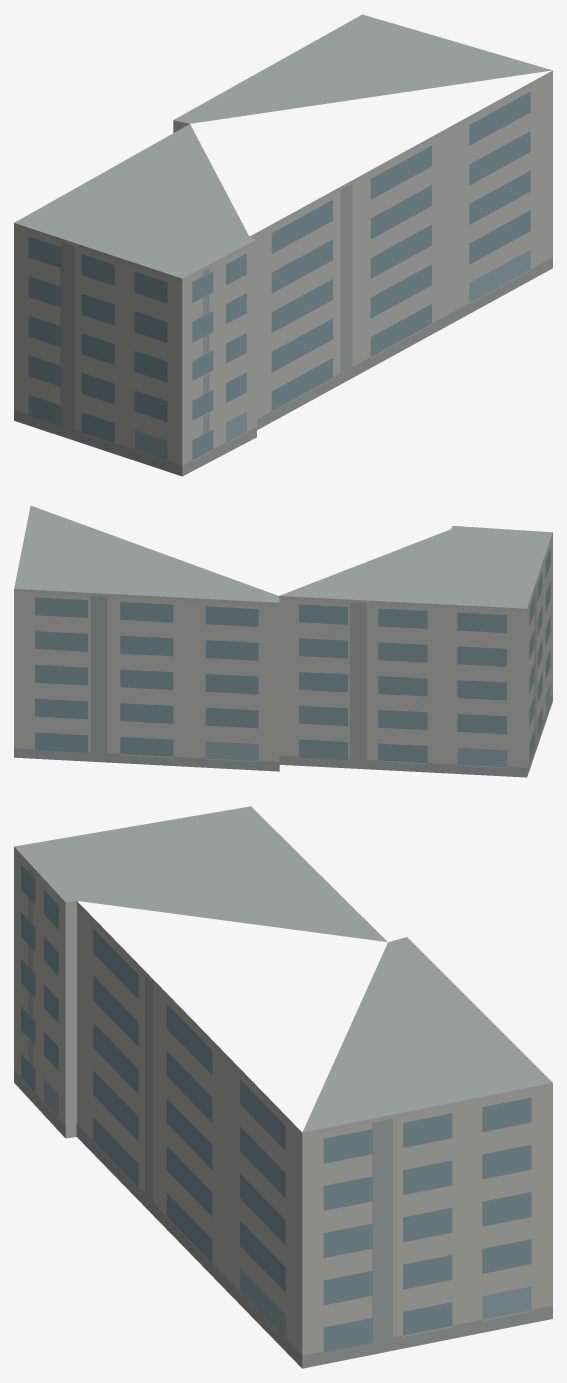
Rendered from survey-upis-32758676.glb.
The picture shows the model from 3 angles, top to bottom: view 1: azimuth 30°, elevation 25°; view 2: azimuth 150°, elevation 25°; view 3: azimuth 270°, elevation 25°; orthographic projection. The views are drawn at different scales.
Parts seen in each view (by area): view 1: survey-upis-32758676.tmp; view 2: survey-upis-32758676.tmp; view 3: survey-upis-32758676.tmp.
Part boxes in pixels (x1=…): survey-upis-32758676.tmp: x1=14, y1=14, x2=552, y2=476; survey-upis-32758676.tmp: x1=14, y1=505, x2=552, y2=777; survey-upis-32758676.tmp: x1=14, y1=806, x2=552, y2=1368.
Bounding box in the file's own units: 39.88 × 13.45 × 27.83.
